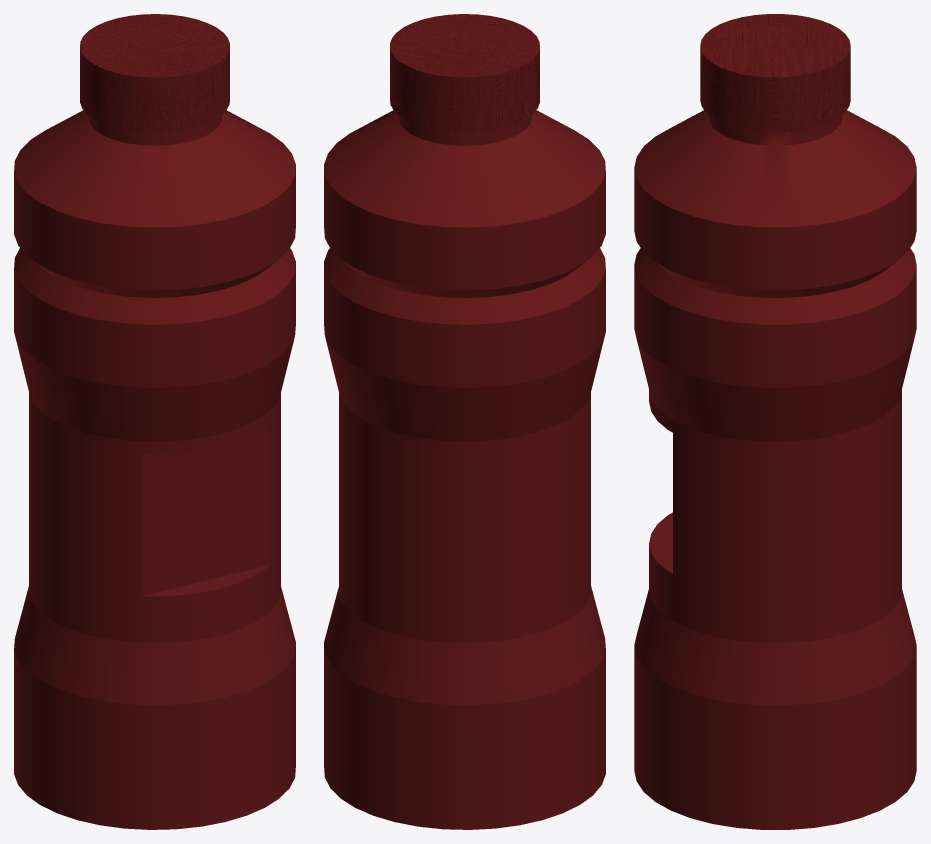
3 views of the same model, side by side, from view 1: azimuth 30°, elevation 25°; view 2: azimuth 150°, elevation 25°; view 3: azimuth 270°, elevation 25° (orthographic).
Visible parts, largest first — view 1: mesh1_mesh1-geometry; view 2: mesh1_mesh1-geometry; view 3: mesh1_mesh1-geometry.
Part boxes in pixels (x1,y1,x2,y2): mesh1_mesh1-geometry: [14, 14, 295, 829]; mesh1_mesh1-geometry: [324, 14, 605, 829]; mesh1_mesh1-geometry: [634, 14, 916, 829].
Size of the model in its own units: 0.3148 by 0.895 by 0.3161.
